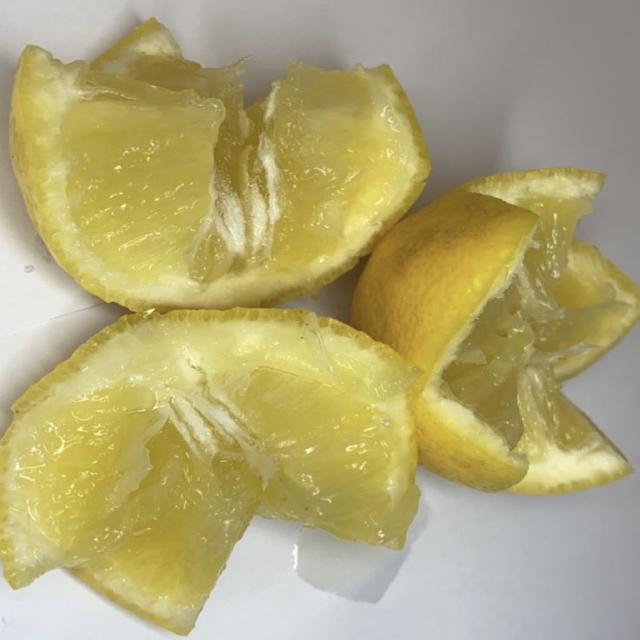lemon: (0, 310, 418, 633), (11, 21, 429, 310), (354, 169, 639, 492)
